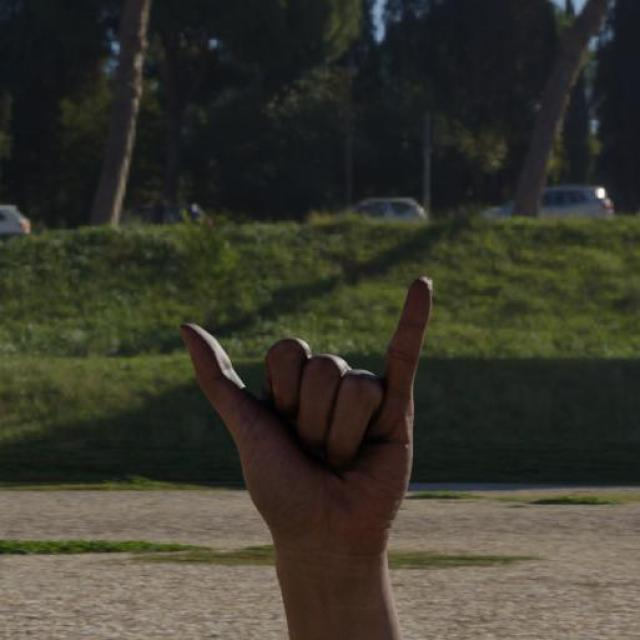Y: (176, 272, 438, 544)
